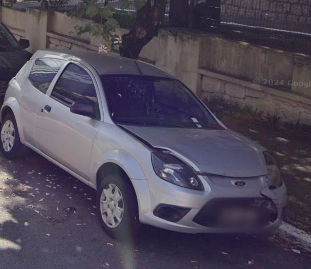car: (1, 48, 288, 242)
